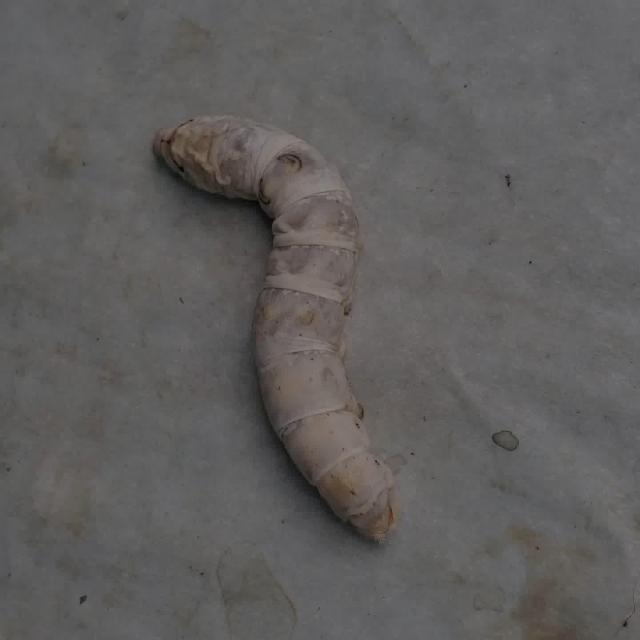Grasserie: (144, 99, 426, 552)
